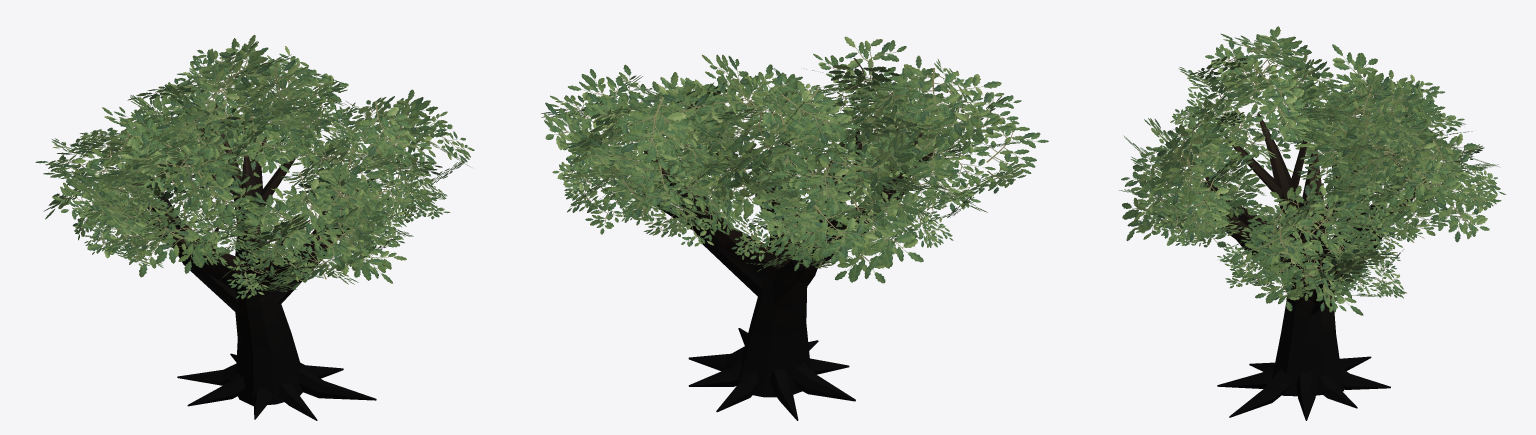
File: Oak_Ancient.fbx
The picture shows the model from 3 angles, left to right: view 1: azimuth 30°, elevation 25°; view 2: azimuth 150°, elevation 25°; view 3: azimuth 270°, elevation 25°; orthographic projection. The views are drawn at different scales.
Parts seen in each view (by area): view 1: Oak_Ancient_LeafCards, Oak_Ancient_Bark; view 2: Oak_Ancient_LeafCards, Oak_Ancient_Bark; view 3: Oak_Ancient_LeafCards, Oak_Ancient_Bark.
Part boxes in pixels (x1=…): Oak_Ancient_LeafCards: x1=35, y1=35, x2=474, y2=299; Oak_Ancient_Bark: x1=135, y1=128, x2=388, y2=420; Oak_Ancient_LeafCards: x1=541, y1=36, x2=1048, y2=283; Oak_Ancient_Bark: x1=643, y1=130, x2=933, y2=420; Oak_Ancient_LeafCards: x1=1119, y1=26, x2=1505, y2=315; Oak_Ancient_Bark: x1=1204, y1=113, x2=1426, y2=420.
Size of the model in its own units: 10.97 by 7.68 by 9.04.
